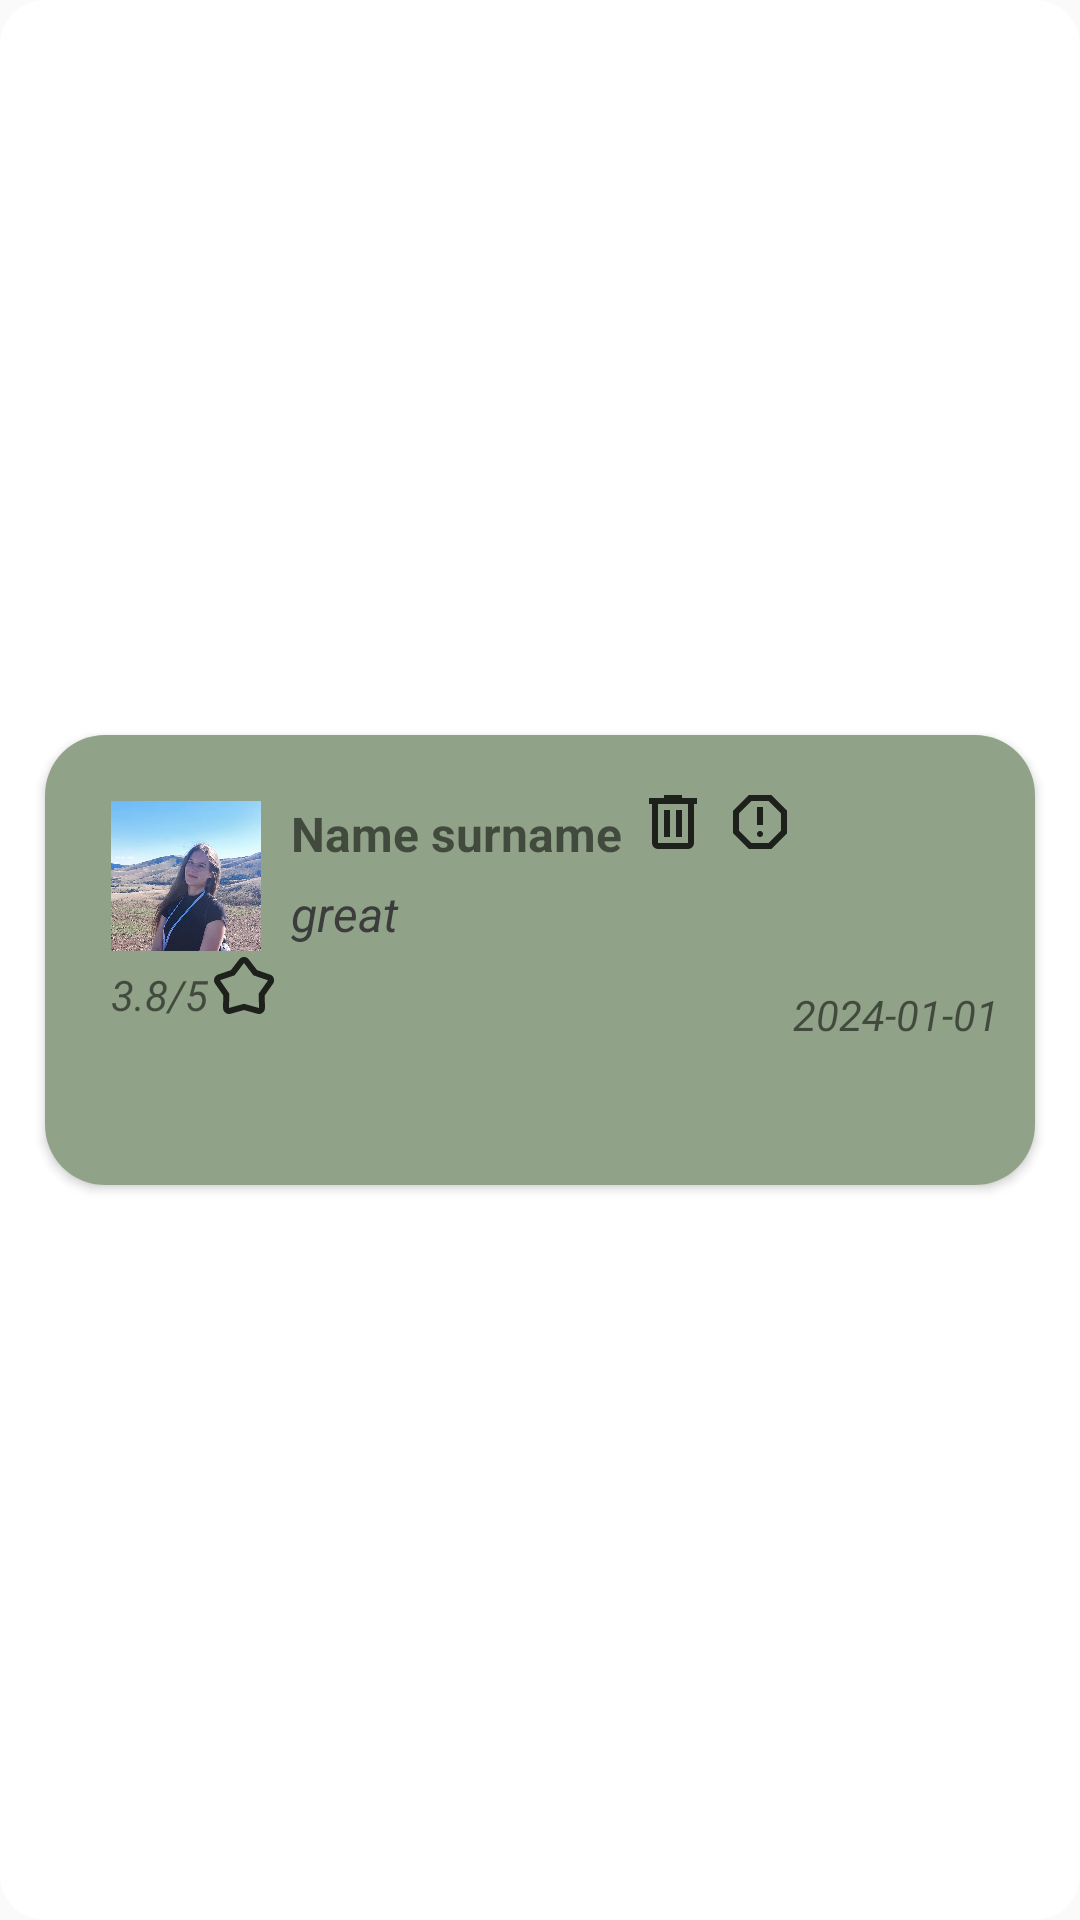

Screen size 1080x1920. Icon name, then its box in pixels as (x1, y1, x2, y2):
delete: (649, 795, 697, 849)
kid star: (214, 957, 274, 1014)
profile pic: (111, 801, 261, 951)
report: (733, 795, 787, 849)
